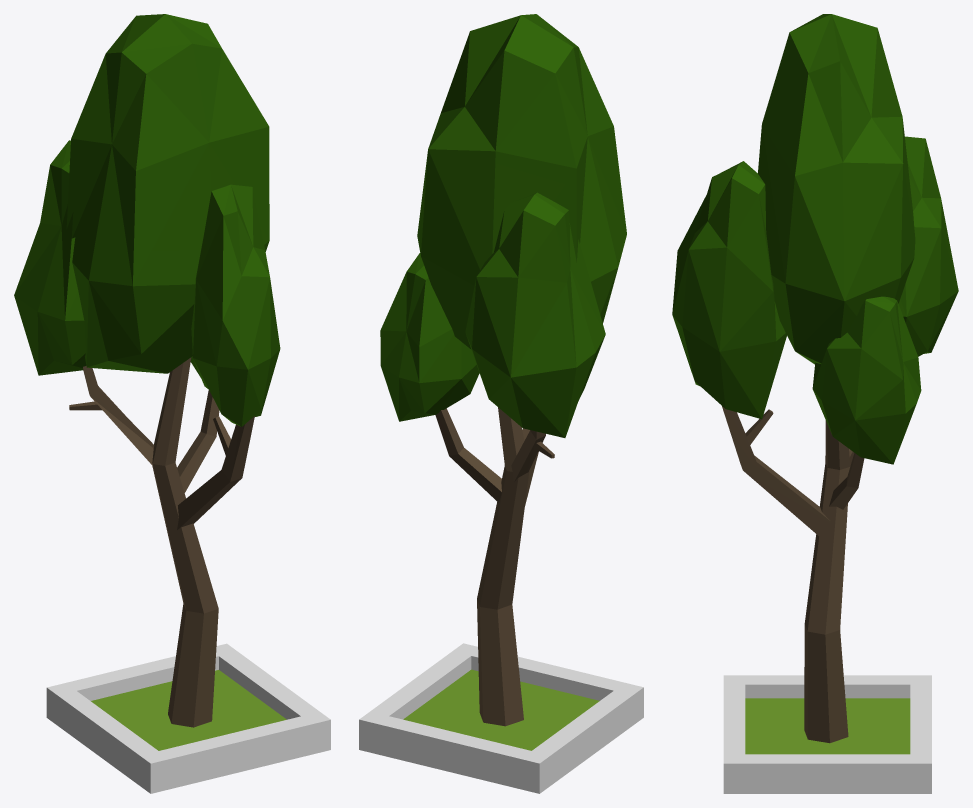
File: 43 Tree_planter.fbx
3 renders of one model, left to right at view 1: azimuth 30°, elevation 25°; view 2: azimuth 150°, elevation 25°; view 3: azimuth 270°, elevation 25°, orthographic.
Visible parts, largest first — view 1: Tree_planter; view 2: Tree_planter; view 3: Tree_planter.
Part boxes in pixels (x1,y1,x2,y2): Tree_planter: (14,14,330,793); Tree_planter: (359,14,643,793); Tree_planter: (672,14,958,793).
Bounding box in the file's own units: 24.89 × 80.11 × 28.67.
